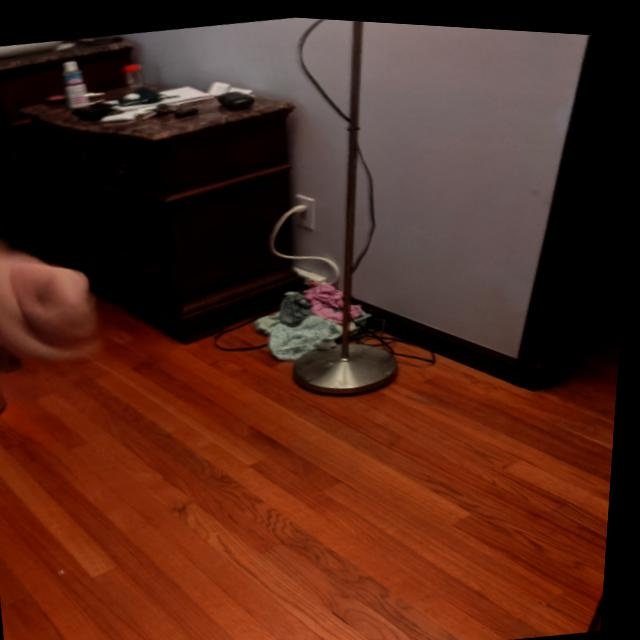J: (0, 203, 162, 450)
